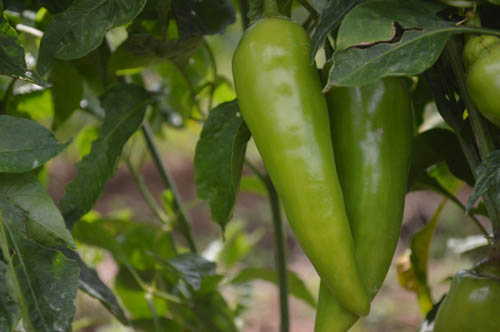ChiliPepper: (236, 21, 372, 314), (317, 58, 411, 332)
